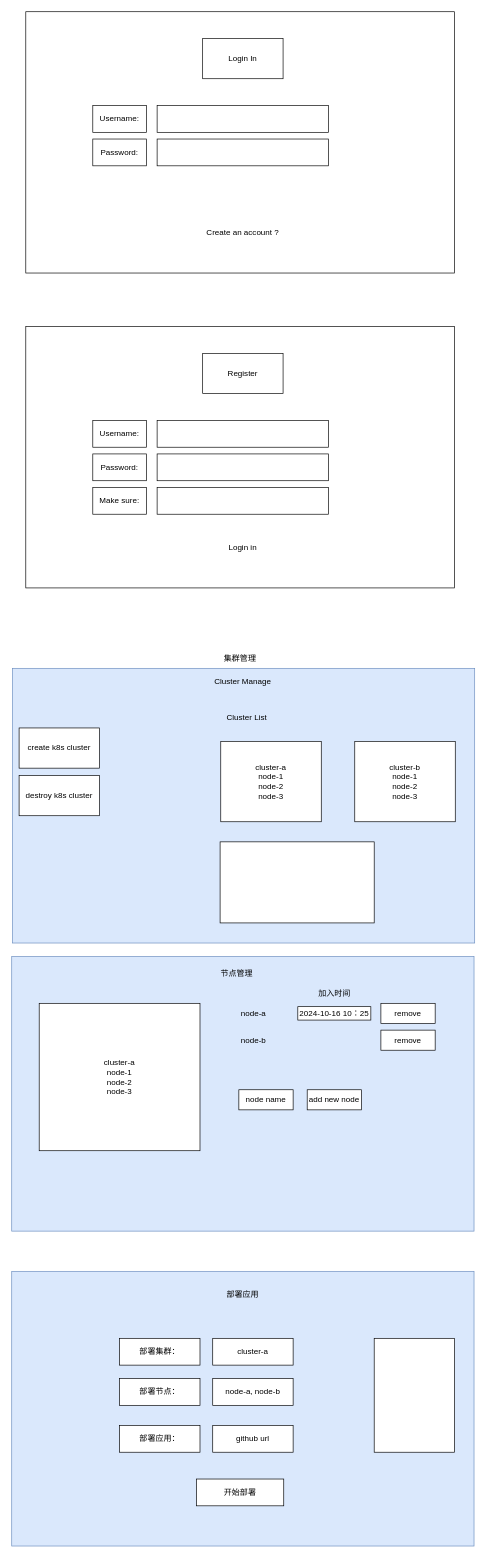
Some shapes in this 486 by 1558 pixel diagram are drawn without their labels. The box of each missing label's shape, as (x1, y1, x2, y2) in pixels:
创建集群的配置参数 集群名字： 实例个数： 实例配置： 初始化命令: (219, 841, 374, 923)
部署日志: (374, 1338, 455, 1452)
